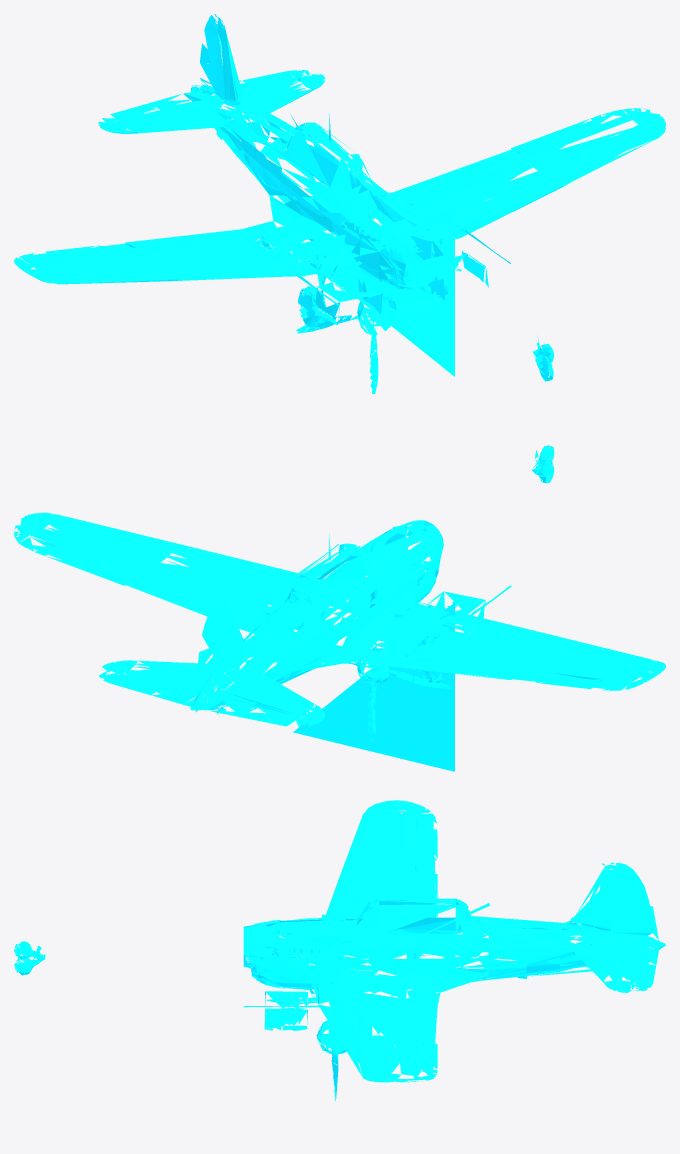
File: PRAL902.glb
3 renders of one model, top to bottom at view 1: azimuth 30°, elevation 25°; view 2: azimuth 150°, elevation 25°; view 3: azimuth 270°, elevation 25°, orthographic. The views are drawn at different scales.
Visible parts, largest first — view 1: misc; view 2: misc; view 3: misc.
Part boxes in pixels (x1,y1,x2,y2): misc: (14,14,665,393); misc: (14,445,665,771); misc: (14,800,665,1101).
Size of the model in its own units: 0.9044 by 0.3616 by 0.8864.
